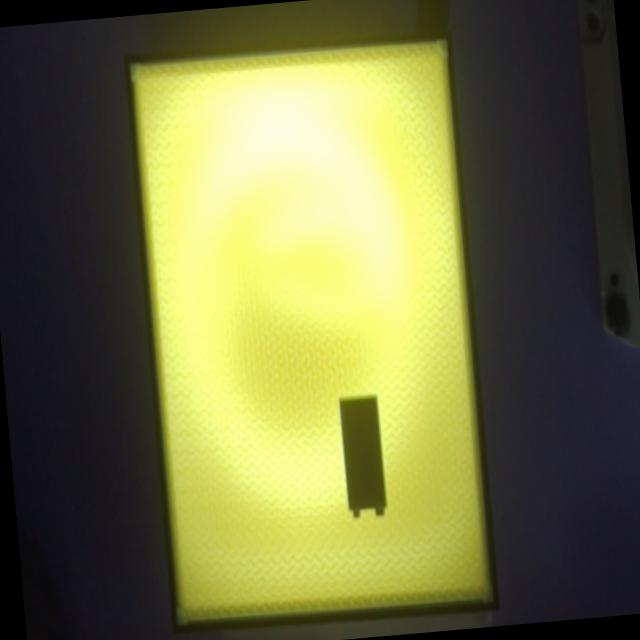bateria: (338, 395, 387, 518)
mesa: (123, 28, 500, 636)
